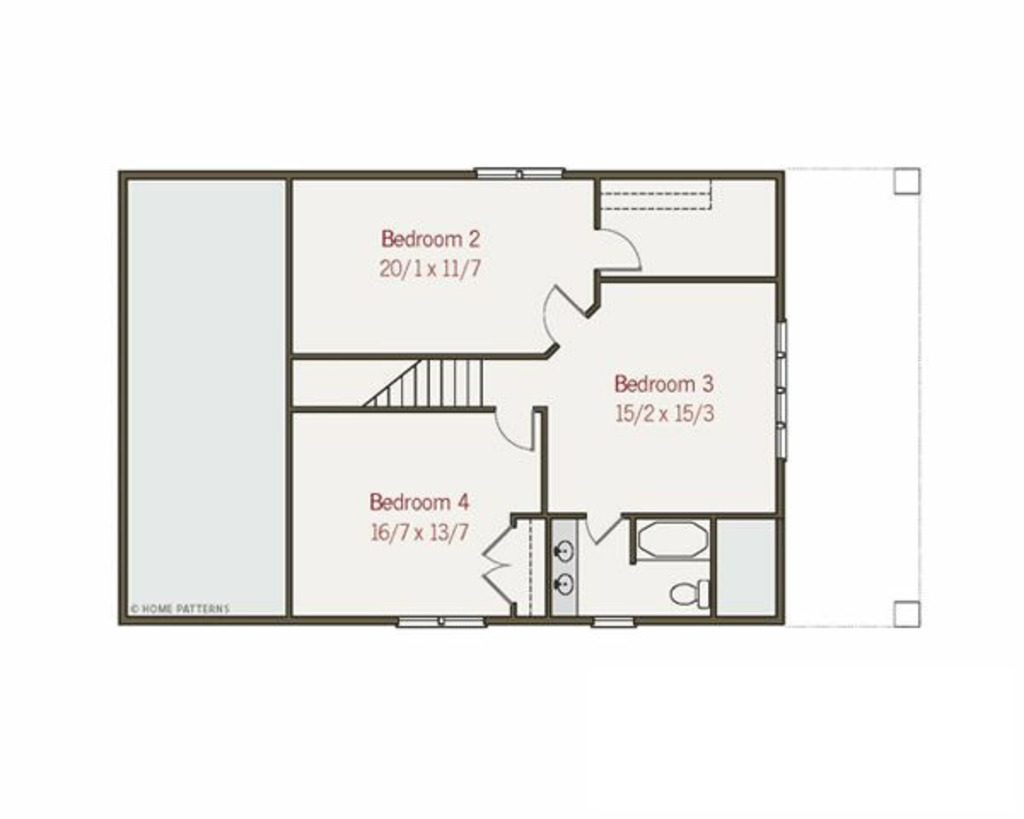door: (470, 519, 521, 610), (529, 278, 590, 353), (488, 400, 540, 463), (589, 225, 643, 273), (579, 506, 623, 548)
large_sink: (666, 568, 708, 615)
small_sink: (545, 522, 575, 615)
stairs: (286, 349, 494, 413)
tub: (632, 511, 712, 565)
window: (399, 608, 490, 629), (474, 165, 562, 182), (586, 613, 637, 630)
